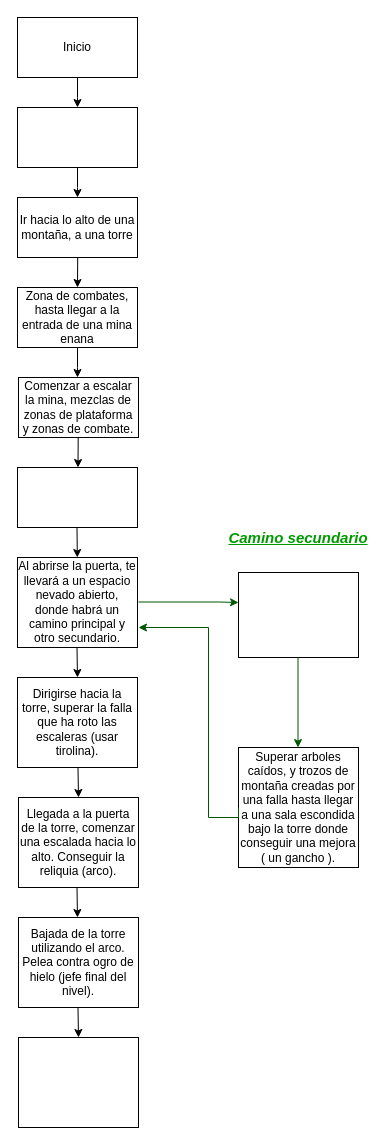
The diagram is 391 pixels wide and 1145 high, and some of its shapes have lost their labels. The centre of each missing label's shape, as x and y in pixels:
Cinemática del transición (final del nivel).: (78,1082)
Cinemática inicial: (77,137)
Irás por un bosque congelado, combatiendo a animales de ambiente congelado.: (298,615)
Llegar a una puerta cerrada (puzzle de glifos enanos con luces y sombras).: (77,497)
